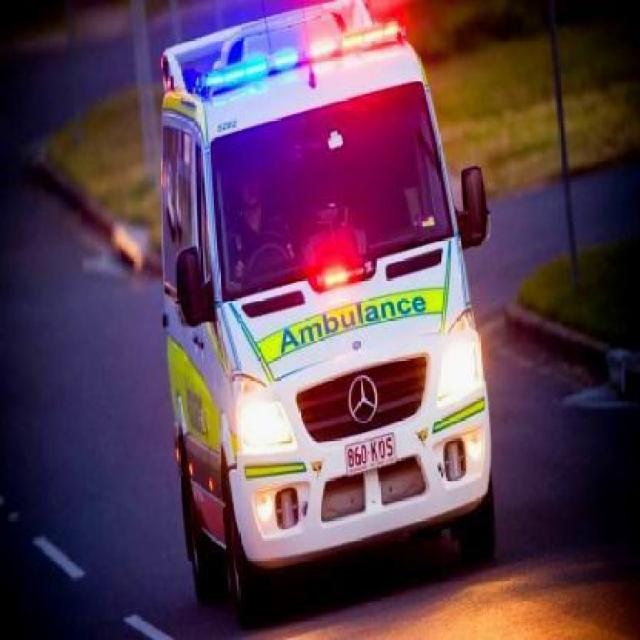Ambulance: (108, 27, 526, 583)
